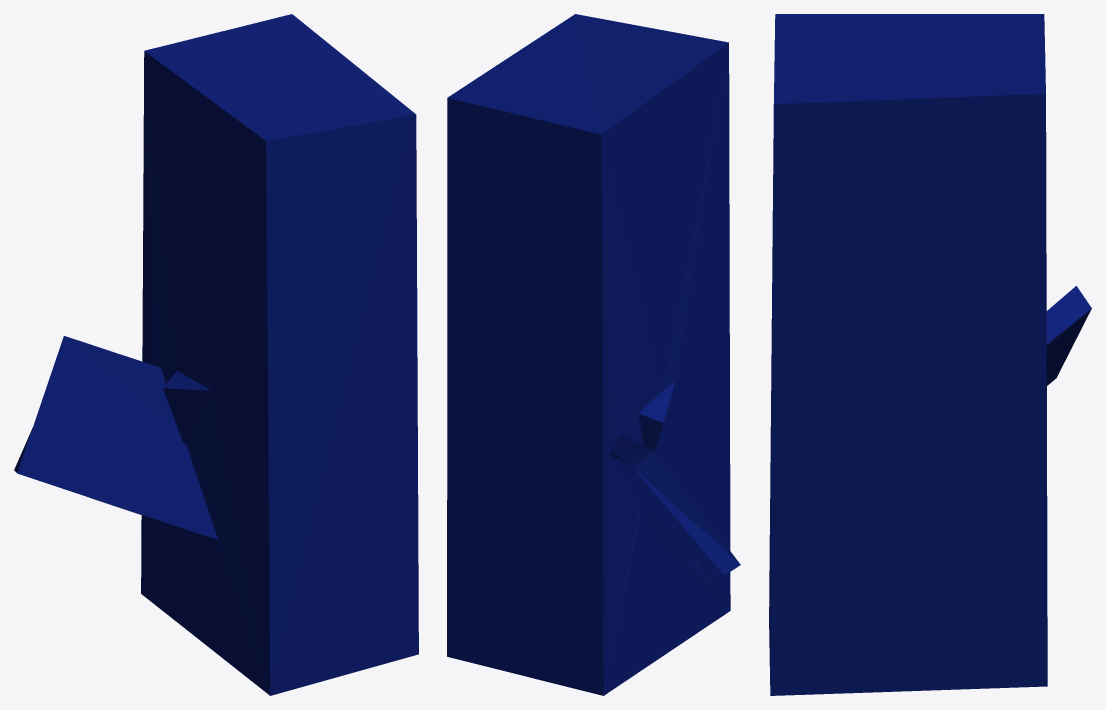
The picture shows the model from 3 angles, left to right: view 1: azimuth 30°, elevation 25°; view 2: azimuth 150°, elevation 25°; view 3: azimuth 270°, elevation 25°; orthographic projection. The views are drawn at different scales.
Visible parts, largest first — view 1: 323_Cube.1321; view 2: 323_Cube.1321; view 3: 323_Cube.1321.
Boxes of the visible parts, x1,y1,x2,y2 form: 323_Cube.1321: [14, 14, 418, 695]; 323_Cube.1321: [447, 14, 740, 695]; 323_Cube.1321: [769, 14, 1091, 695].
Size of the model in its own units: 6.51 by 12.31 by 5.91.
